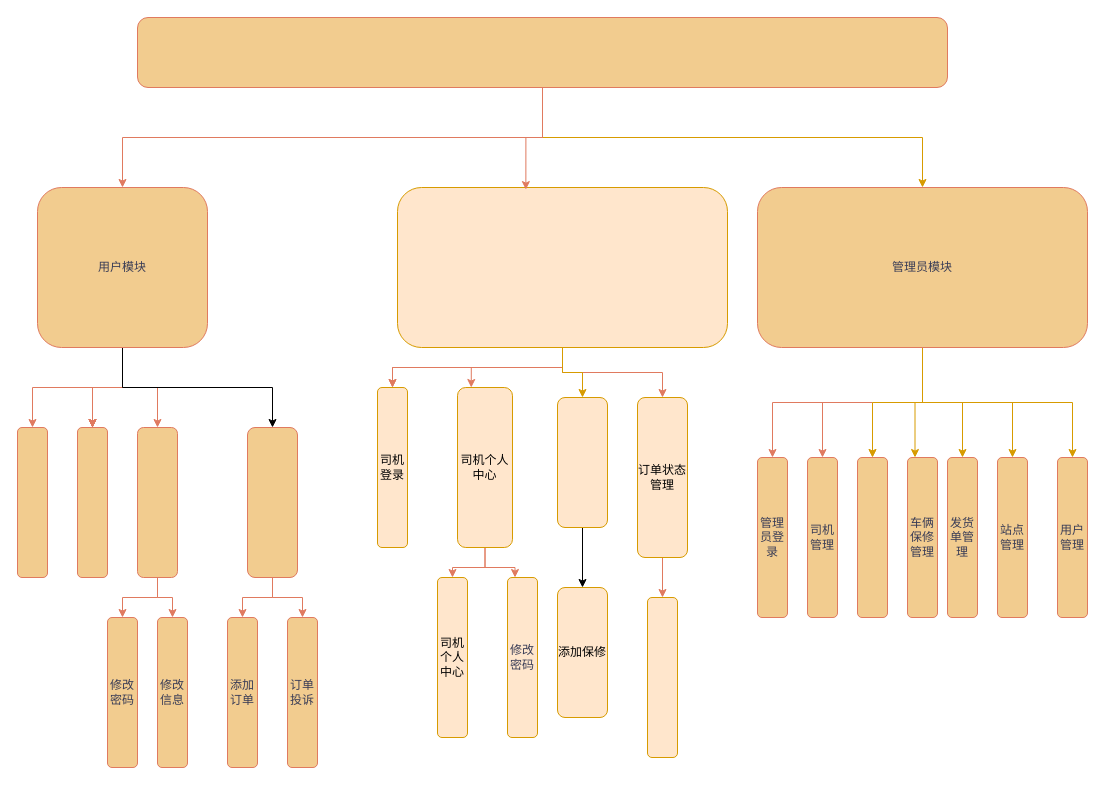
Some shapes in this 1105 by 785 pixel diagram are drawn without their labels. Each missing label, with the box of its shape:
个人中心: (136, 426, 178, 578)
保修管理: (556, 396, 608, 528)
司机模块: (396, 186, 728, 348)
注册: (16, 426, 48, 578)
物流管理系统: (136, 16, 948, 88)
登录: (76, 426, 108, 578)
编辑订单状态: (646, 596, 678, 758)
订单管理: (246, 426, 298, 578)
车源管理: (856, 456, 888, 618)
